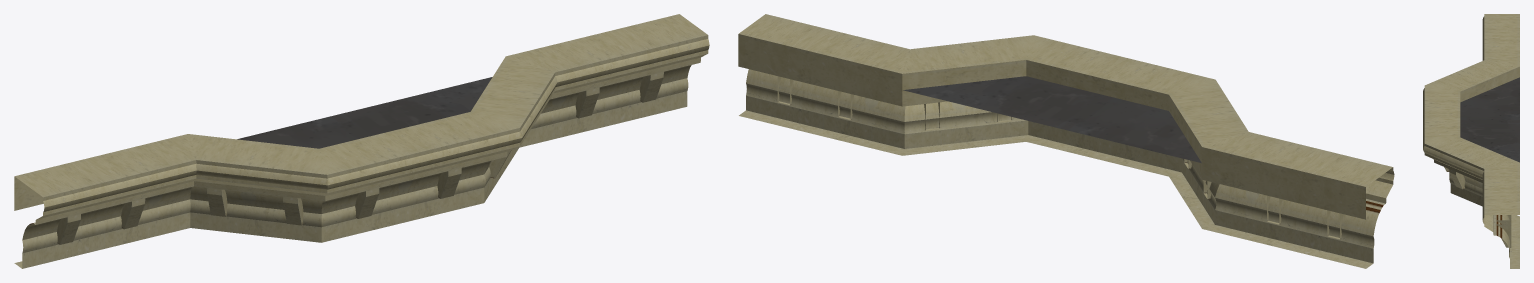
File: Trim_BayWindow_Top.gltf
3 views of the same model, side by side, from view 1: azimuth 30°, elevation 25°; view 2: azimuth 150°, elevation 25°; view 3: azimuth 270°, elevation 25° (orthographic). The views are drawn at different scales.
Visible parts, largest first — view 1: Trim_BayWindow_Top; view 2: Trim_BayWindow_Top; view 3: Trim_BayWindow_Top.
Part boxes in pixels (x1,y1,x2,y2): Trim_BayWindow_Top: (14, 14, 709, 268); Trim_BayWindow_Top: (738, 14, 1394, 268); Trim_BayWindow_Top: (1423, 14, 1519, 268).
Bounding box in the file's own units: 8 × 0.9984 × 1.63.
2 materials, 2 textured.
